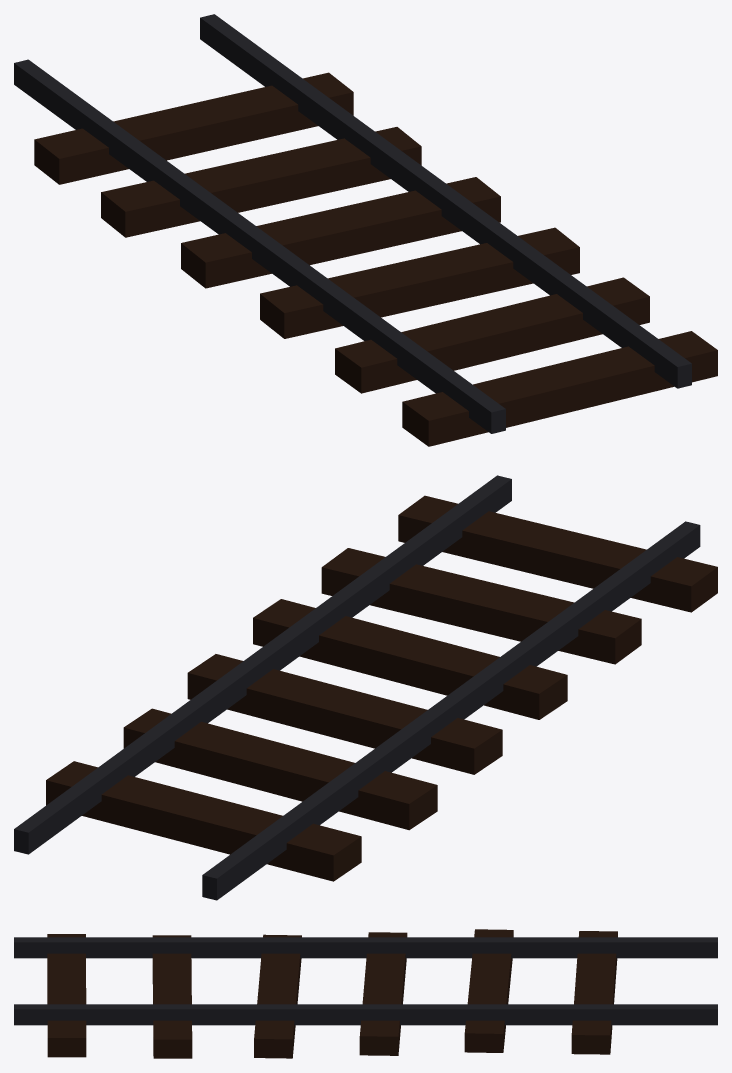
File: railes.fbx
3 views of the same model, one above another, from view 1: azimuth 30°, elevation 25°; view 2: azimuth 150°, elevation 25°; view 3: azimuth 270°, elevation 25° (orthographic). The views are drawn at different scales.
Parts seen in each view (by area): view 1: railes; view 2: railes; view 3: railes.
Part boxes in pixels (x1,y1,x2,y2): railes: (14, 14, 717, 446); railes: (14, 475, 717, 900); railes: (14, 929, 717, 1058).
Size of the model in its own units: 1.48 by 0.19 by 4.
